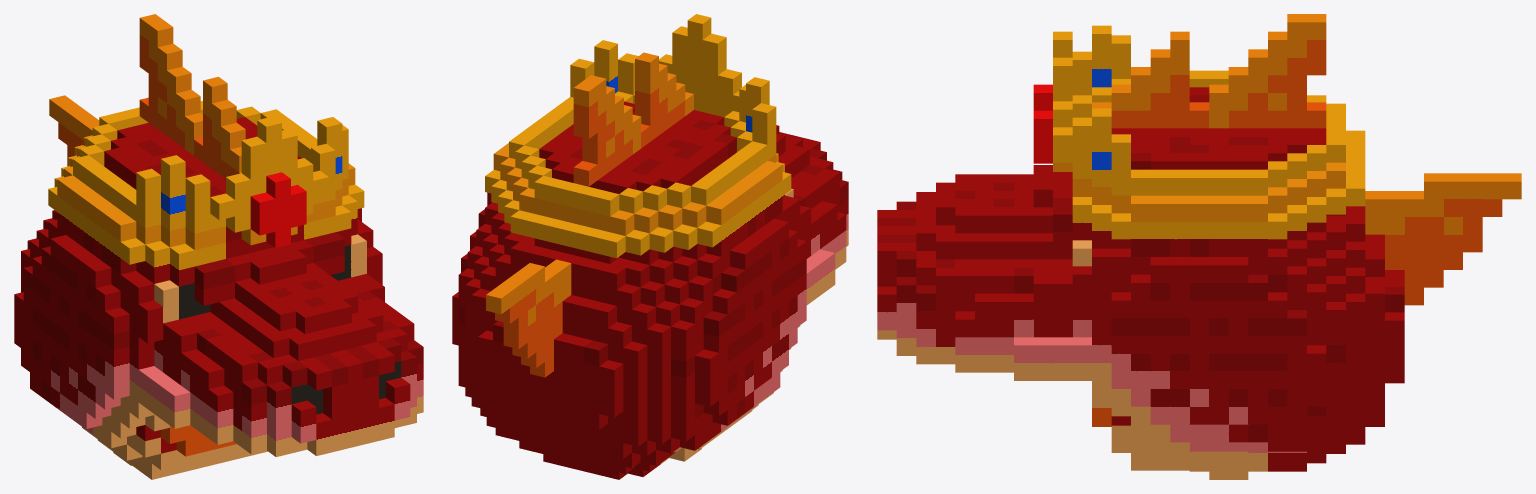
The model's file is queen crown_rainbow spectacles.gltf.
3 views of the same model, side by side, from view 1: azimuth 30°, elevation 25°; view 2: azimuth 150°, elevation 25°; view 3: azimuth 270°, elevation 25° (orthographic). The views are drawn at different scales.
Visible parts, largest first — view 1: C35_H_QueenC_RedG_RBSpec-Mesh; view 2: C35_H_QueenC_RedG_RBSpec-Mesh; view 3: C35_H_QueenC_RedG_RBSpec-Mesh.
Part boxes in pixels (bbox=[...]): C35_H_QueenC_RedG_RBSpec-Mesh: bbox=[14, 14, 423, 479]; C35_H_QueenC_RedG_RBSpec-Mesh: bbox=[452, 14, 848, 479]; C35_H_QueenC_RedG_RBSpec-Mesh: bbox=[877, 14, 1521, 479].
Bounding box in the file's own units: 17 × 24 × 33.
Materials: 1 (1 with a texture image).
